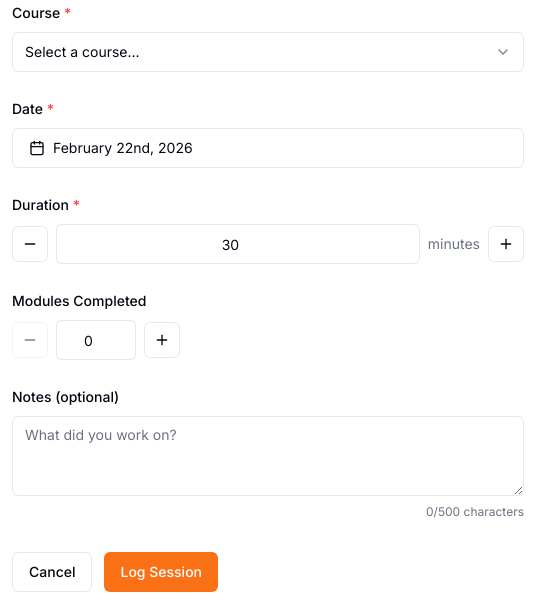
Test: SessionLogForm › updates character count when notes change
Type "Hello" into the text box with placeholder "What did you work on?" at [268, 456], box 12,416 -> 524,496
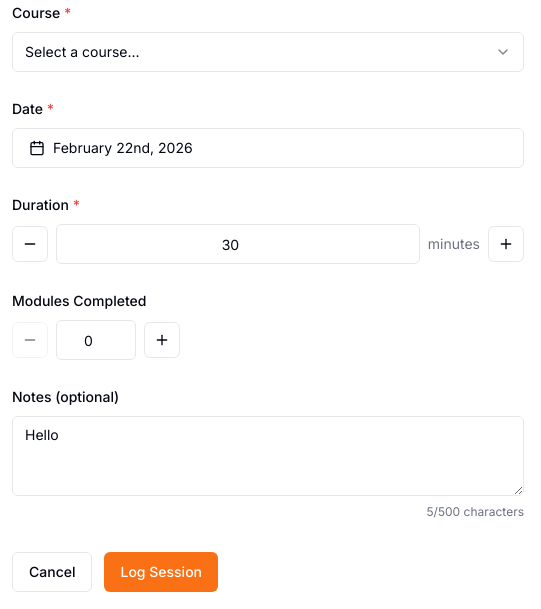
Now the text "5/500 characters" is shown, box 426,504 -> 524,519
